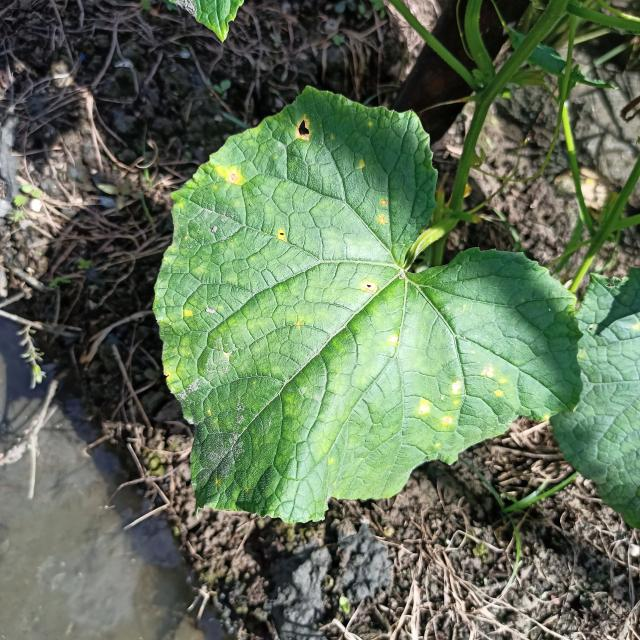disease_cucumber: (414, 360, 511, 428), (374, 193, 391, 232), (293, 117, 313, 149), (217, 165, 243, 186), (362, 278, 376, 298), (389, 334, 402, 345), (277, 230, 285, 240)
